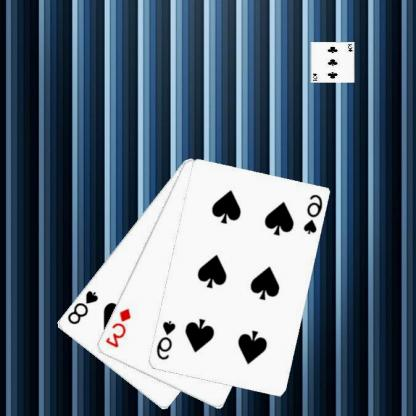3D: (104, 306, 134, 350)
6S: (302, 192, 325, 236), (155, 318, 178, 361)
8S: (66, 288, 101, 326)
